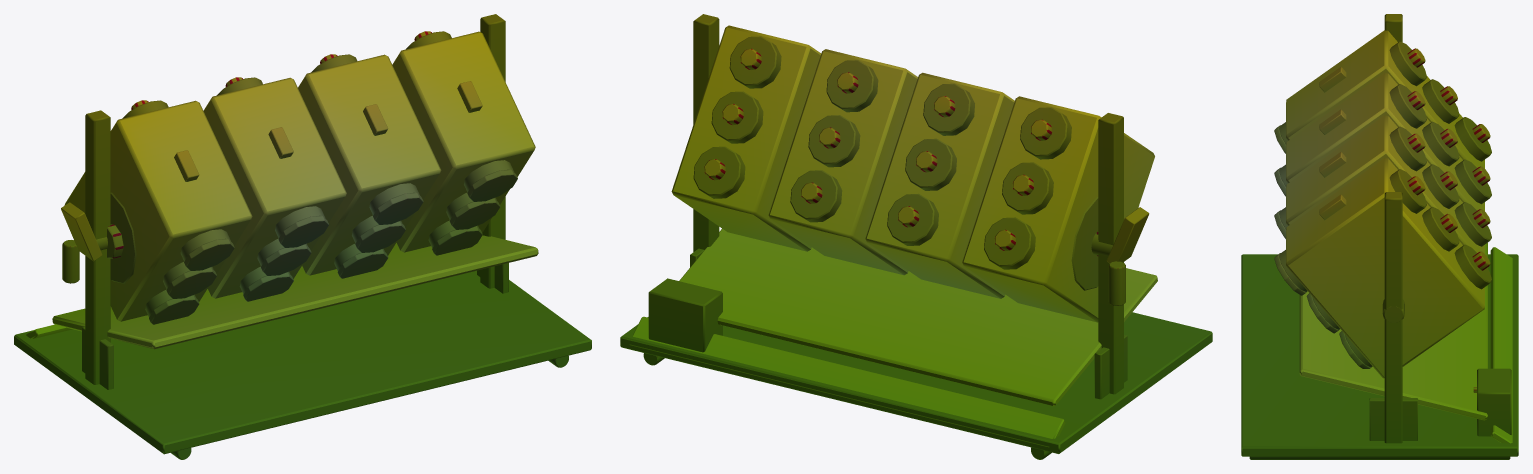
Rendered from RCLModule_bulwark_siege_tank_minefield_ordnance_carrier.fbx.
3 views of the same model, side by side, from view 1: azimuth 30°, elevation 25°; view 2: azimuth 150°, elevation 25°; view 3: azimuth 270°, elevation 25° (orthographic). The views are drawn at different scales.
Parts seen in each view (by area): view 1: RCLModule_bulwark_siege_tank_minefield_ordnance_carrier_Batc (×3); view 2: RCLModule_bulwark_siege_tank_minefield_ordnance_carrier_Batc (×3); view 3: RCLModule_bulwark_siege_tank_minefield_ordnance_carrier_Batc (×3).
Boxes of the visible parts, x1,y1,x2,y2 form: RCLModule_bulwark_siege_tank_minefield_ordnance_carrier_Batc (×3): (14,14,591,459); RCLModule_bulwark_siege_tank_minefield_ordnance_carrier_Batc (×3): (620,14,1212,459); RCLModule_bulwark_siege_tank_minefield_ordnance_carrier_Batc (×3): (1241,14,1518,459).
Size of the model in its own units: 67.99 by 42.62 by 40.02.
